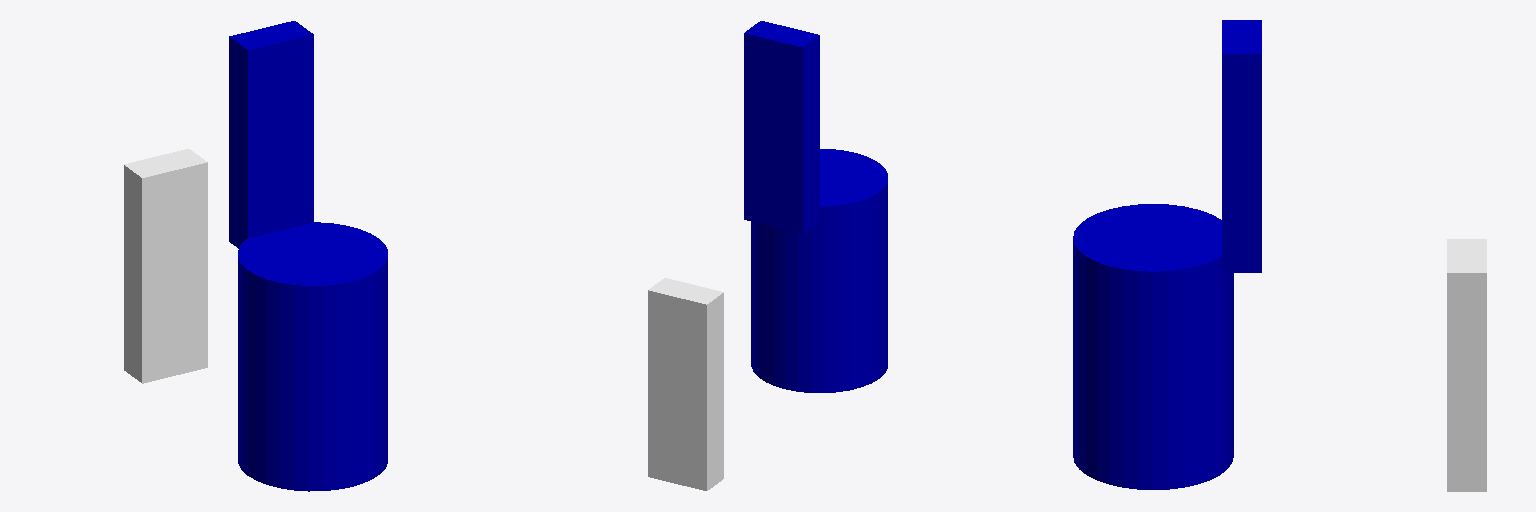
The robot description file, URDF, robot "materials":
<?xml version="1.0"?>
<robot name="materials">

  <material name="blue">
    <color rgba="0 0 0.8 1"/>
  </material>

  <material name="white">
    <color rgba="1 1 1 1"/>
  </material>


  <link name="base_link">
    <visual>
      <geometry>
        <cylinder length="0.6" radius="0.2"/>
      </geometry>
      <material name="blue"/>
    </visual>
  </link>

  <link name="right_leg">
    <visual>
      <geometry>
        <box size="0.6 0.1 0.2"/>
      </geometry>
      <origin rpy="0 1.57075 0" xyz="0 1 -0.3"/>
      <material name="white"/>
    </visual>
  </link>

  <joint name="base_to_right_leg" type="fixed">
    <parent link="base_link"/>
    <child link="right_leg"/>
    <origin xyz="0 -0.22 0.25"/>
  </joint>

  <link name="left_leg">
    <visual>
      <geometry>
        <box size="0.6 0.1 0.2"/>
      </geometry>
      <origin rpy="0 1.57075 0" xyz="0 0 0.3"/>
      <material name="blue"/>
    </visual>
  </link>

  <joint name="base_to_left_leg" type="fixed">
    <parent link="base_link"/>
    <child link="left_leg"/>
    <origin xyz="0 0.22 0.25"/>
  </joint>

</robot>

--- Render facts (derived) ---
Views: 3 orthographic renders of the robot side by side, from view 1: azimuth 30°, elevation 25°; view 2: azimuth 150°, elevation 25°; view 3: azimuth 270°, elevation 25°.
Model materials with 3 links and 2 joints (2 fixed), rooted at base_link, posed every joint at zero.
Visible links, largest first — view 1: base_link, right_leg, left_leg; view 2: base_link, left_leg, right_leg; view 3: base_link, right_leg, left_leg.
Link boxes in pixels (left/top/right/bottom): base_link: left=238, top=222, right=387, bottom=491; right_leg: left=124, top=149, right=207, bottom=383; left_leg: left=229, top=21, right=313, bottom=248; base_link: left=751, top=149, right=887, bottom=392; left_leg: left=744, top=21, right=819, bottom=233; right_leg: left=648, top=278, right=723, bottom=490; base_link: left=1073, top=204, right=1233, bottom=489; right_leg: left=1447, top=239, right=1486, bottom=491; left_leg: left=1222, top=20, right=1261, bottom=272.
Bounding box of the posed robot: 0.4 × 1.03 × 1.2 m (x, y, z).
Geometry: primitives only (box / cylinder / sphere), no mesh files.